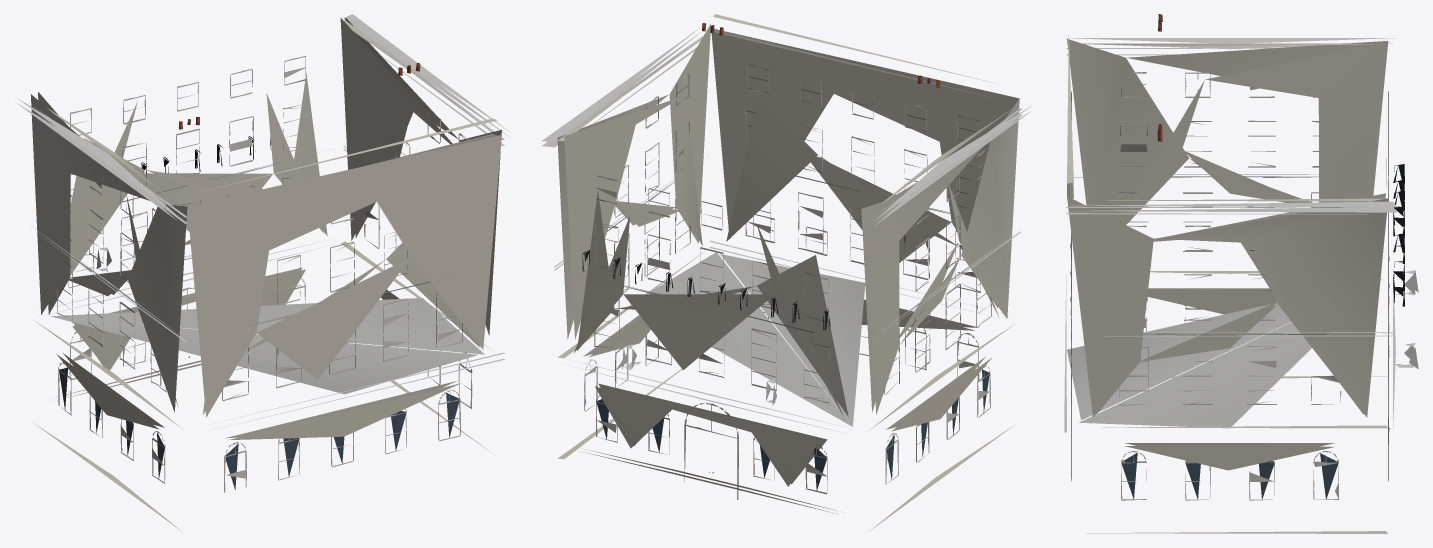
The model's file is town-mansion_mirror.glb.
3 renders of one model, left to right at view 1: azimuth 30°, elevation 25°; view 2: azimuth 150°, elevation 25°; view 3: azimuth 270°, elevation 25°, orthographic. The views are drawn at different scales.
Parts seen in each view (by area): view 1: town-mansion_mirror; view 2: town-mansion_mirror; view 3: town-mansion_mirror.
Part boxes in pixels (x1,y1,x2,y2): town-mansion_mirror: (15, 14, 509, 531); town-mansion_mirror: (541, 14, 1031, 531); town-mansion_mirror: (1064, 14, 1418, 533).
Bounding box in the file's own units: 17.2 × 18.05 × 15.3.
